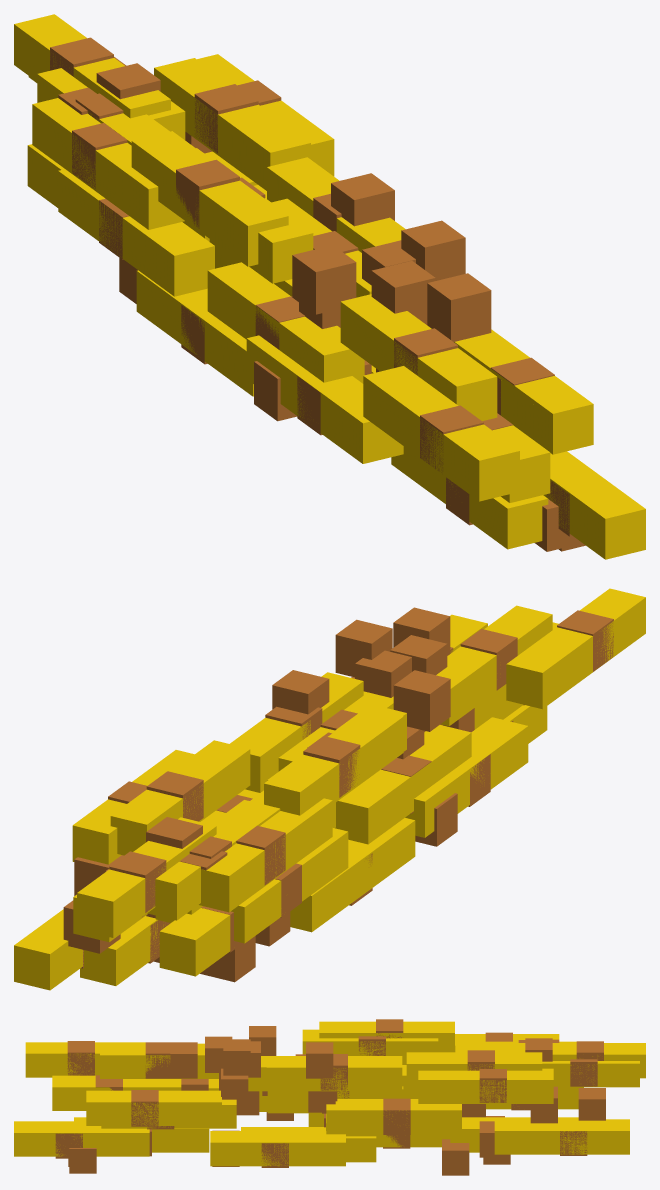
File: FriedFood.fbx
The picture shows the model from 3 angles, top to bottom: view 1: azimuth 30°, elevation 25°; view 2: azimuth 150°, elevation 25°; view 3: azimuth 270°, elevation 25°; orthographic projection. The views are drawn at different scales.
Parts seen in each view (by area): view 1: Fries, Chicken; view 2: Fries, Chicken; view 3: Fries, Chicken.
Part boxes in pixels (<box>): Fries: <box>14,14,645,559</box>; Chicken: <box>50,37,585,551</box>; Fries: <box>14,588,645,990</box>; Chicken: <box>63,607,613,982</box>; Fries: <box>14,1021,645,1166</box>; Chicken: <box>55,1019,605,1175</box>.
Bounding box in the file's own units: 24.17 × 24.51 × 116.
